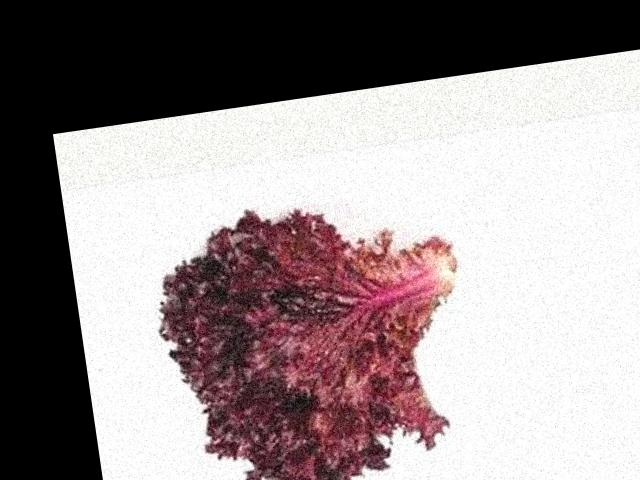lettuce: (440, 189, 564, 464)
